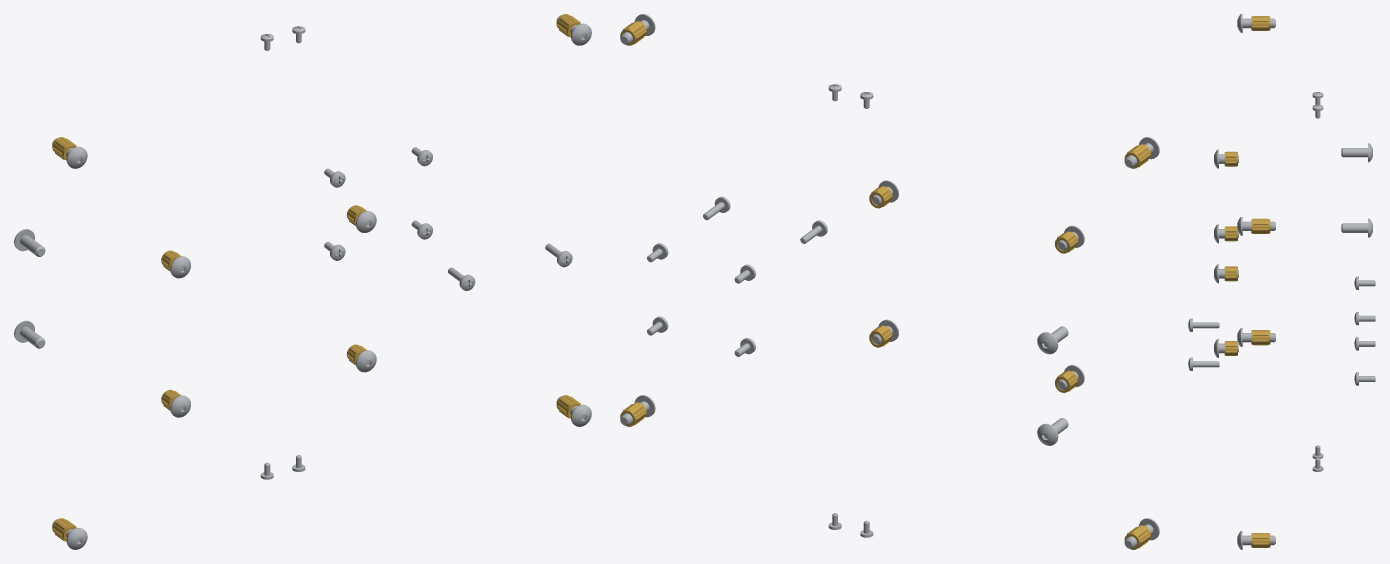
The model's file is fasteners.glb.
3 renders of one model, left to right at view 1: azimuth 30°, elevation 25°; view 2: azimuth 150°, elevation 25°; view 3: azimuth 270°, elevation 25°, orthographic. The views are drawn at different scales.
Parts seen in each view (by area): view 1: fasteners; view 2: fasteners; view 3: fasteners.
Boxes of the visible parts, bbox=[...] form: fasteners: bbox=[14, 14, 591, 549]; fasteners: bbox=[620, 14, 1159, 549]; fasteners: bbox=[1188, 14, 1375, 549].
Size of the model in its own units: 150 by 121 by 56.25.
